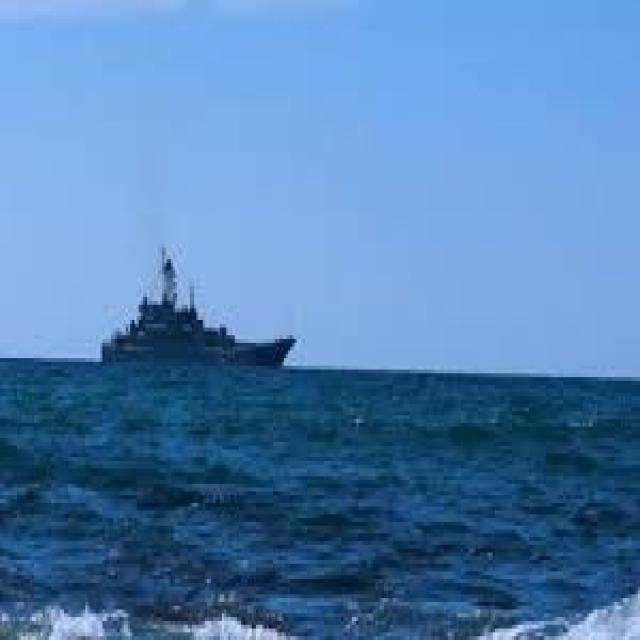navalvessels: (104, 241, 293, 379)
